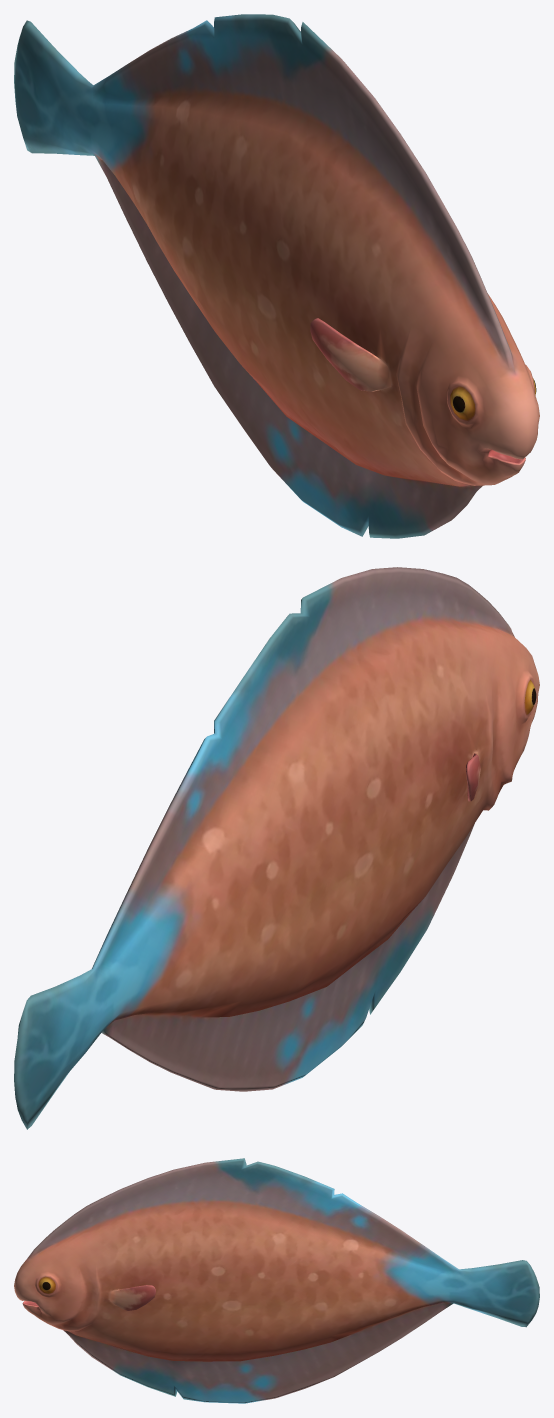
The picture shows the model from 3 angles, top to bottom: view 1: azimuth 30°, elevation 25°; view 2: azimuth 150°, elevation 25°; view 3: azimuth 270°, elevation 25°; orthographic projection. The views are drawn at different scales.
Visible parts, largest first — view 1: SM_Fish_DesertSole_01_LOD0; view 2: SM_Fish_DesertSole_01_LOD0; view 3: SM_Fish_DesertSole_01_LOD0.
Part boxes in pixels (box(x1,y1,x2,y2)): SM_Fish_DesertSole_01_LOD0: box(14, 14, 539, 538); SM_Fish_DesertSole_01_LOD0: box(14, 567, 539, 1129); SM_Fish_DesertSole_01_LOD0: box(14, 1158, 539, 1403).
Size of the model in its own units: 0.1007 by 0.2889 by 0.561.
Materials: 1 (1 with a texture image).
